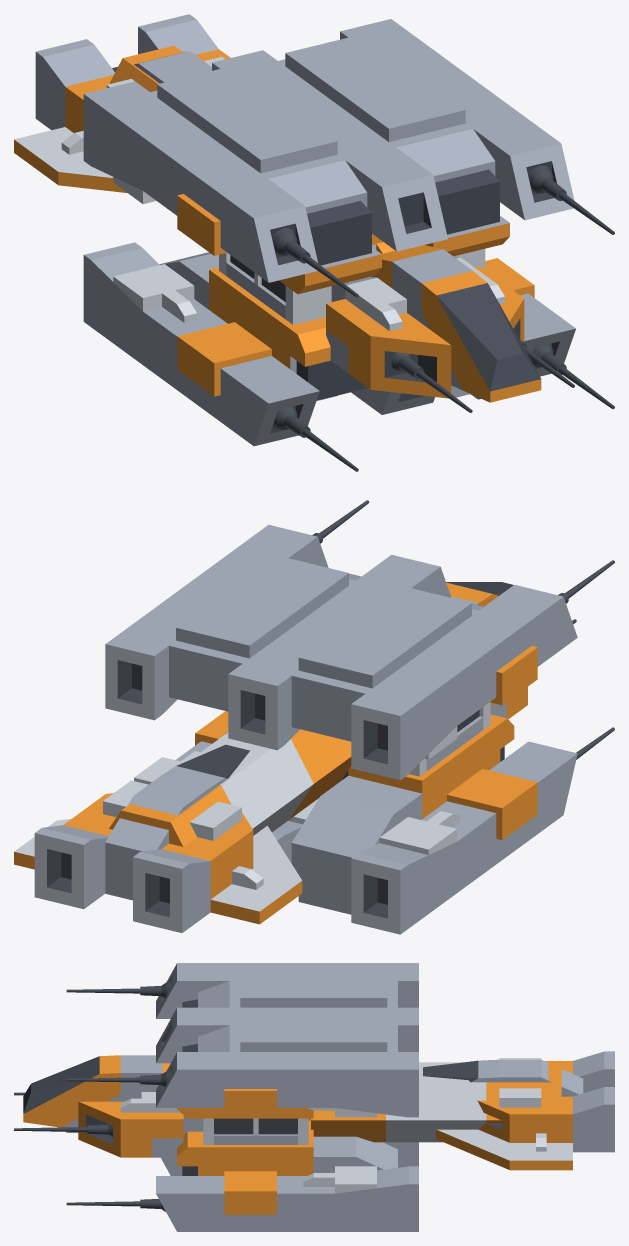
The model's file is chasseur_moyen_1.glb.
3 views of the same model, one above another, from view 1: azimuth 30°, elevation 25°; view 2: azimuth 150°, elevation 25°; view 3: azimuth 270°, elevation 25° (orthographic). The views are drawn at different scales.
Visible parts, largest first — view 1: mergedBlocks(Clone); view 2: mergedBlocks(Clone); view 3: mergedBlocks(Clone).
Boxes of the visible parts, x1,y1,x2,y2 form: mergedBlocks(Clone): (14,14,614,471); mergedBlocks(Clone): (14,500,614,934); mergedBlocks(Clone): (14,963,614,1231).
Bounding box in the file's own units: 2.5 × 1.9 × 5.71.
Materials: 1 (1 with a texture image).
